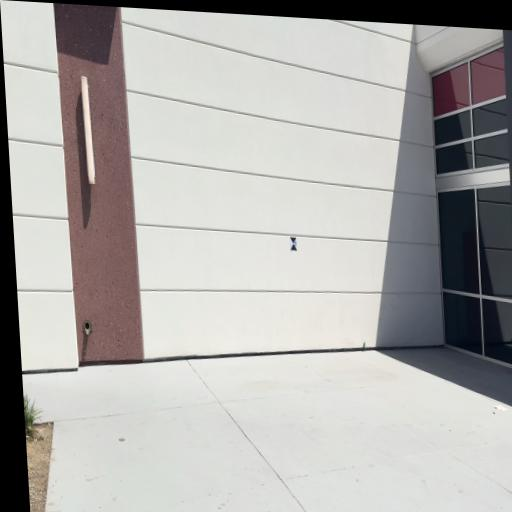target7: (290, 236, 298, 251)
